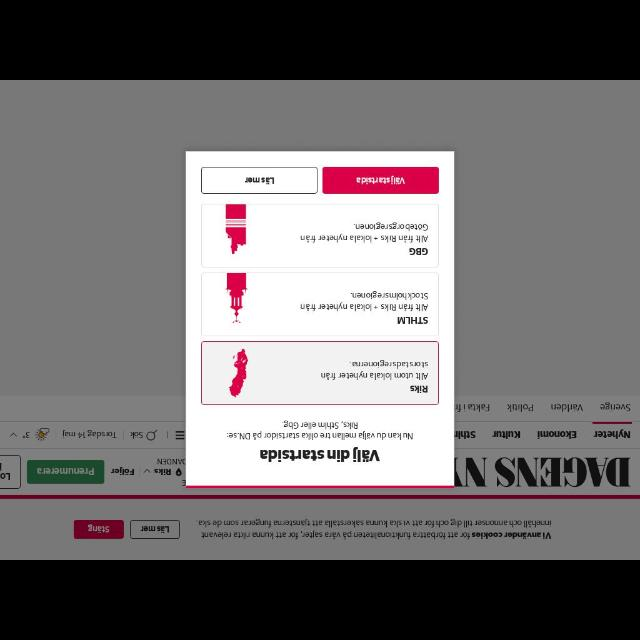icon: (146, 430, 158, 440), (175, 430, 185, 440), (174, 467, 183, 478), (8, 430, 18, 438), (144, 469, 150, 473)
image: (225, 203, 248, 253), (226, 273, 247, 323), (228, 349, 250, 396), (36, 428, 50, 442)
multitab: (1, 422, 639, 448), (1, 397, 639, 421)
spinner: (1, 424, 55, 446), (140, 464, 172, 478)
text: (195, 519, 553, 541), (454, 458, 632, 487), (225, 420, 413, 440), (299, 288, 429, 312), (300, 222, 428, 244), (321, 361, 429, 381), (260, 448, 382, 462), (61, 429, 117, 439), (356, 173, 404, 184), (37, 468, 95, 477), (536, 428, 578, 438), (550, 402, 584, 413), (594, 429, 630, 439), (456, 402, 490, 412), (241, 175, 275, 185), (601, 402, 633, 412), (396, 314, 428, 324), (140, 524, 170, 534), (492, 429, 522, 439), (158, 456, 186, 466), (506, 403, 536, 412), (452, 430, 478, 440), (86, 524, 110, 534), (112, 466, 134, 476), (409, 384, 429, 394), (408, 246, 428, 256), (128, 430, 144, 440), (155, 468, 171, 476), (22, 432, 31, 438)
textbutton: (201, 167, 317, 193), (322, 168, 438, 192), (26, 460, 104, 482), (130, 520, 180, 538), (74, 522, 124, 538), (1, 456, 21, 486)
toolbar: (1, 448, 639, 494)
